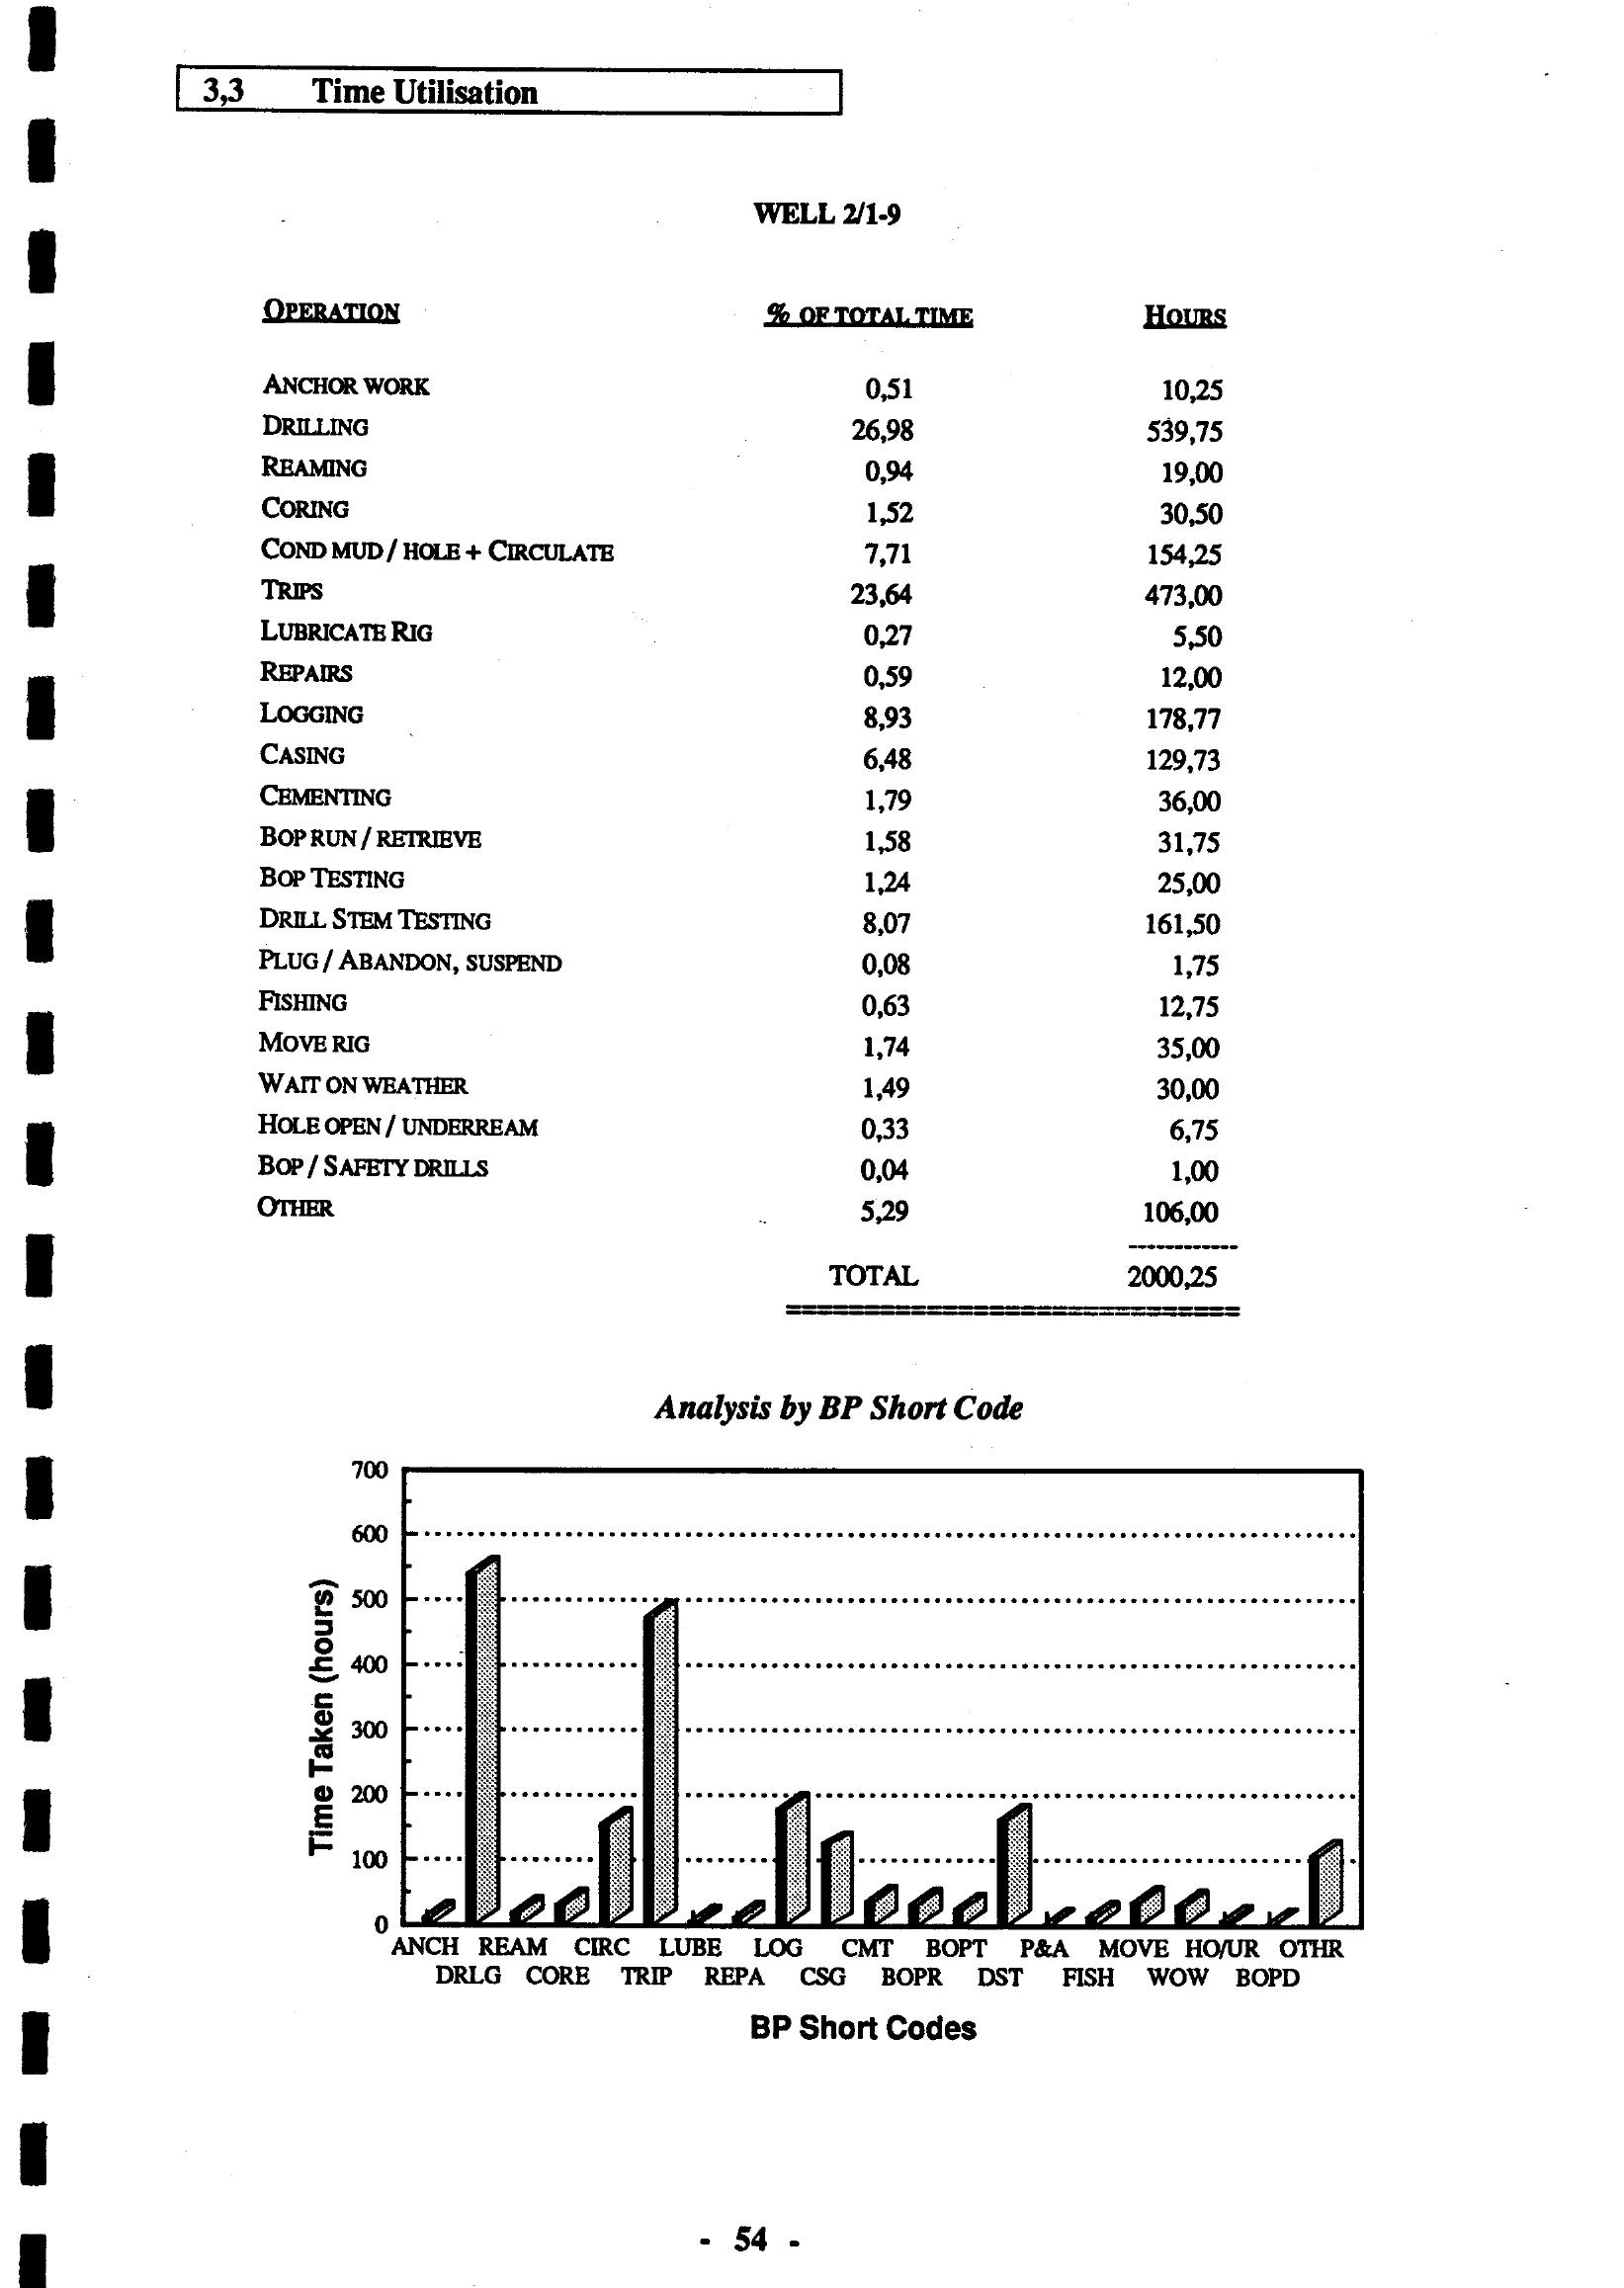graph: (260, 1358, 1501, 2070)
table: (234, 160, 1285, 1350)
text: (137, 46, 889, 146)
